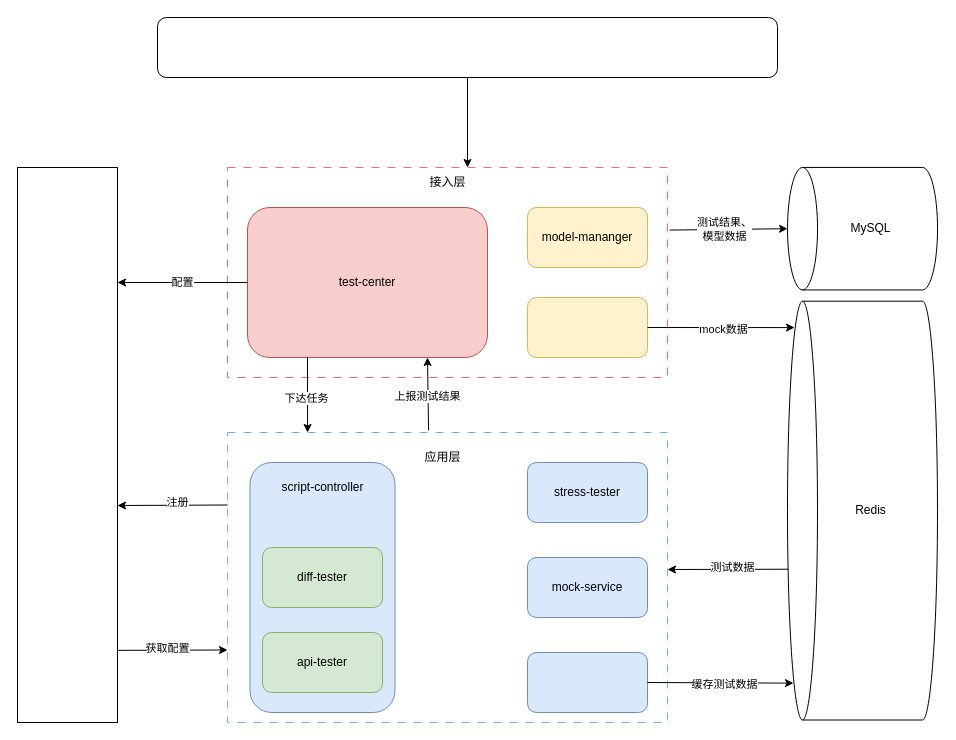
This 956x740 diagram has some shape labels left out. Each missing label, with the centre of its shape:
"data-manager" belongs at (587,682).
"mock-center" belongs at (587,327).
"zk配置中心" belongs at (67,444).
"前端" belongs at (467,47).
